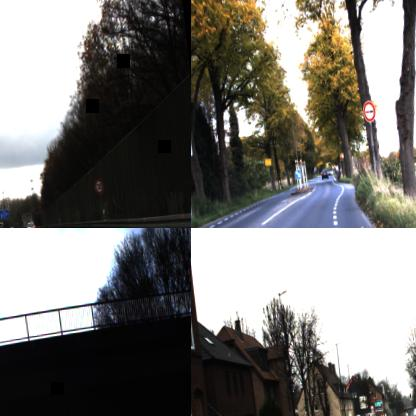keep right: (294, 168, 301, 180)
no overtaking (trucks): (361, 99, 376, 122)
speed limit 120: (93, 178, 104, 194)
